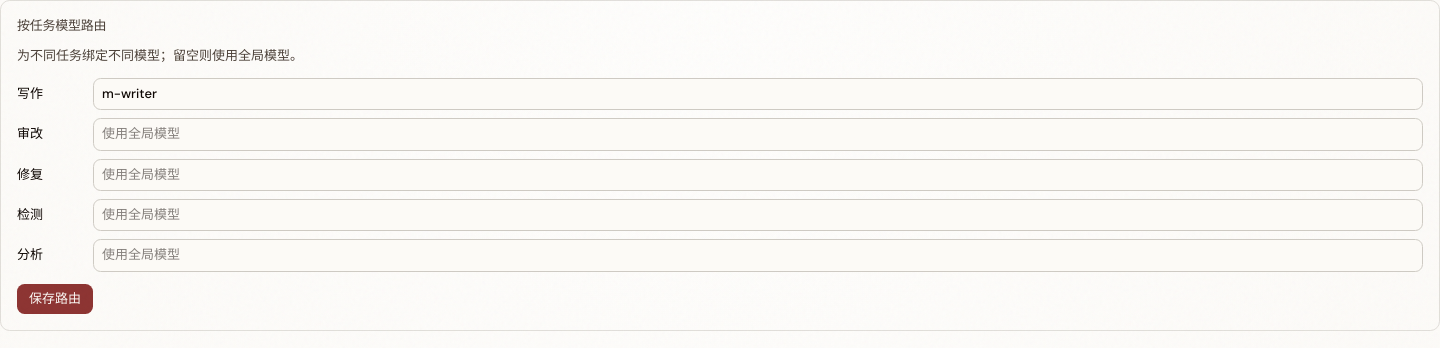
it: TaskRoutingPanel 交互（479 号） › 新任务填模型后保存，载荷保留 defaults 并合并新任务
Expected: the 1st field holds "m-writer", [93, 78, 1423, 110]
In the field with placeholder "使用全局模型" next to "审改": (758, 134) [93, 118, 1423, 151], type "m-review"
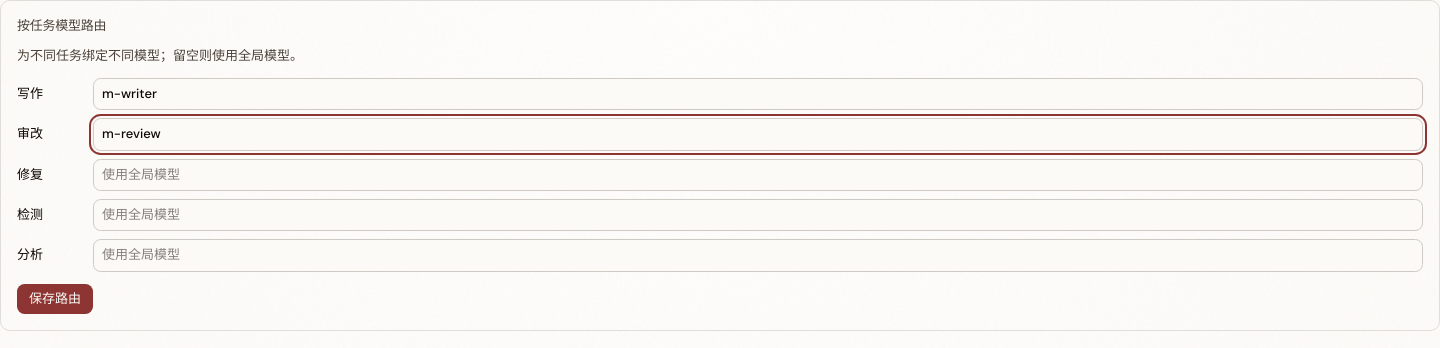
Click the button "保存路由": (55, 299) [17, 284, 93, 314]
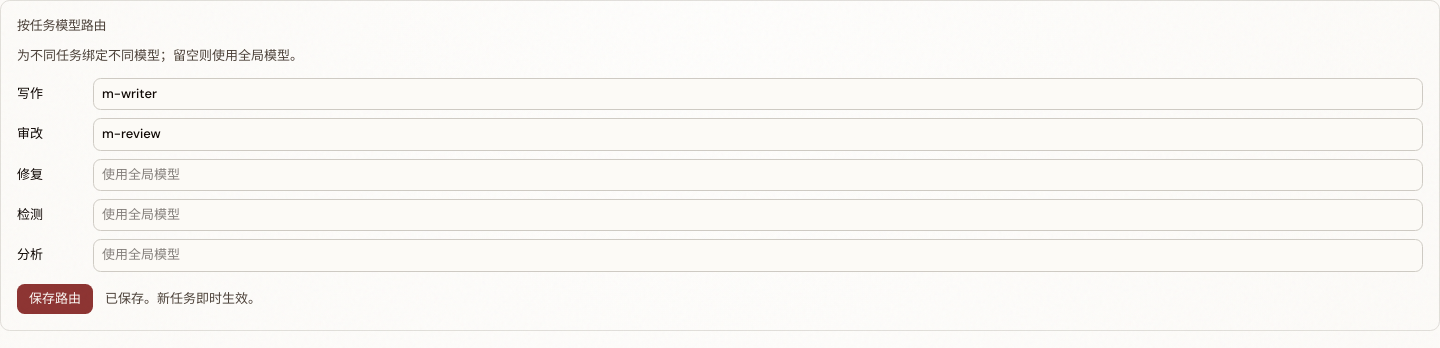
Expected: the text "已保存。新任务即时生效。" is shown, [105, 290, 261, 308]
